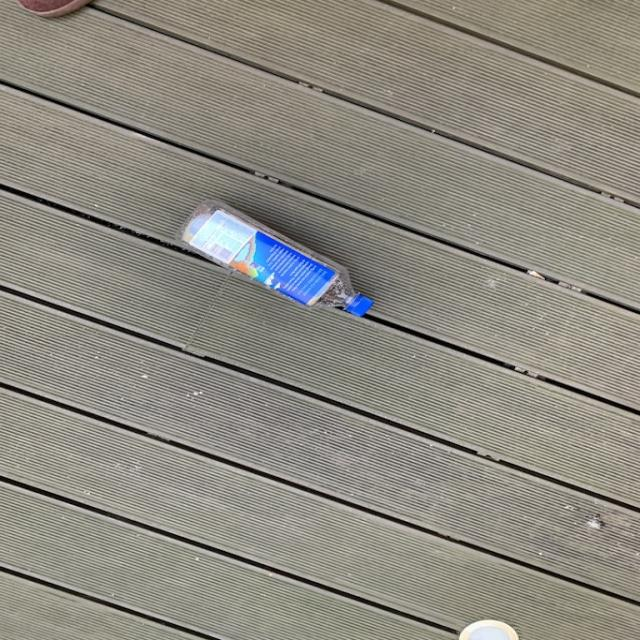Waste: (181, 201, 374, 315)
